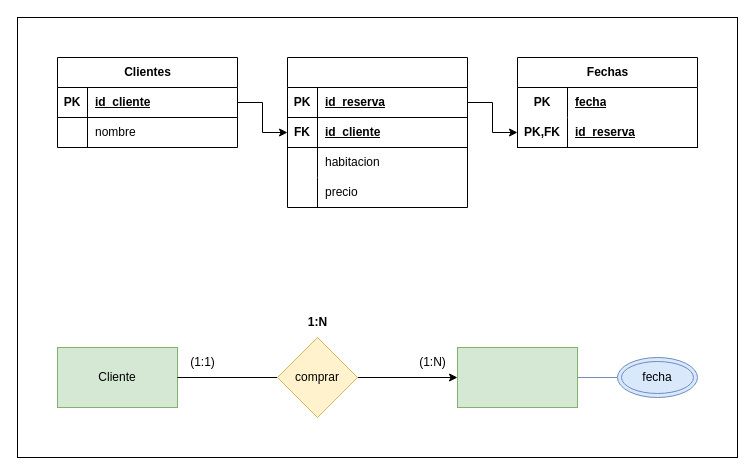
The diagram is 755 pixels wide and 475 high, and some of its shapes have lost their labels. Each missing label, with the box of its shape:
Reserva: (456, 346, 578, 408)
Reservas: (286, 56, 468, 208)
